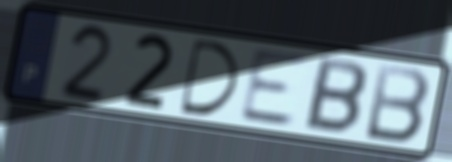2: (57, 21, 118, 106), (122, 32, 175, 113)
B: (361, 60, 433, 147), (300, 53, 370, 138)
D: (178, 36, 242, 119)
E: (236, 47, 313, 130)
